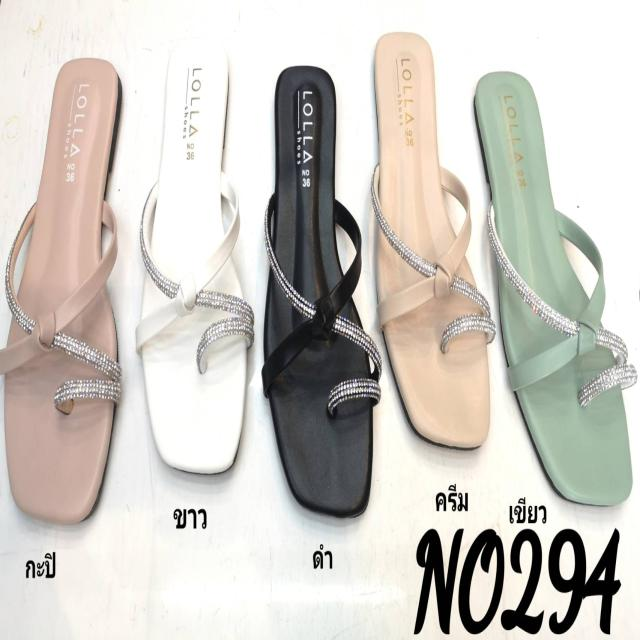black: (266, 63, 375, 524)
cream: (372, 27, 494, 449)
green: (477, 65, 631, 508)
kapi: (1, 60, 120, 522)
white: (140, 48, 244, 472)
